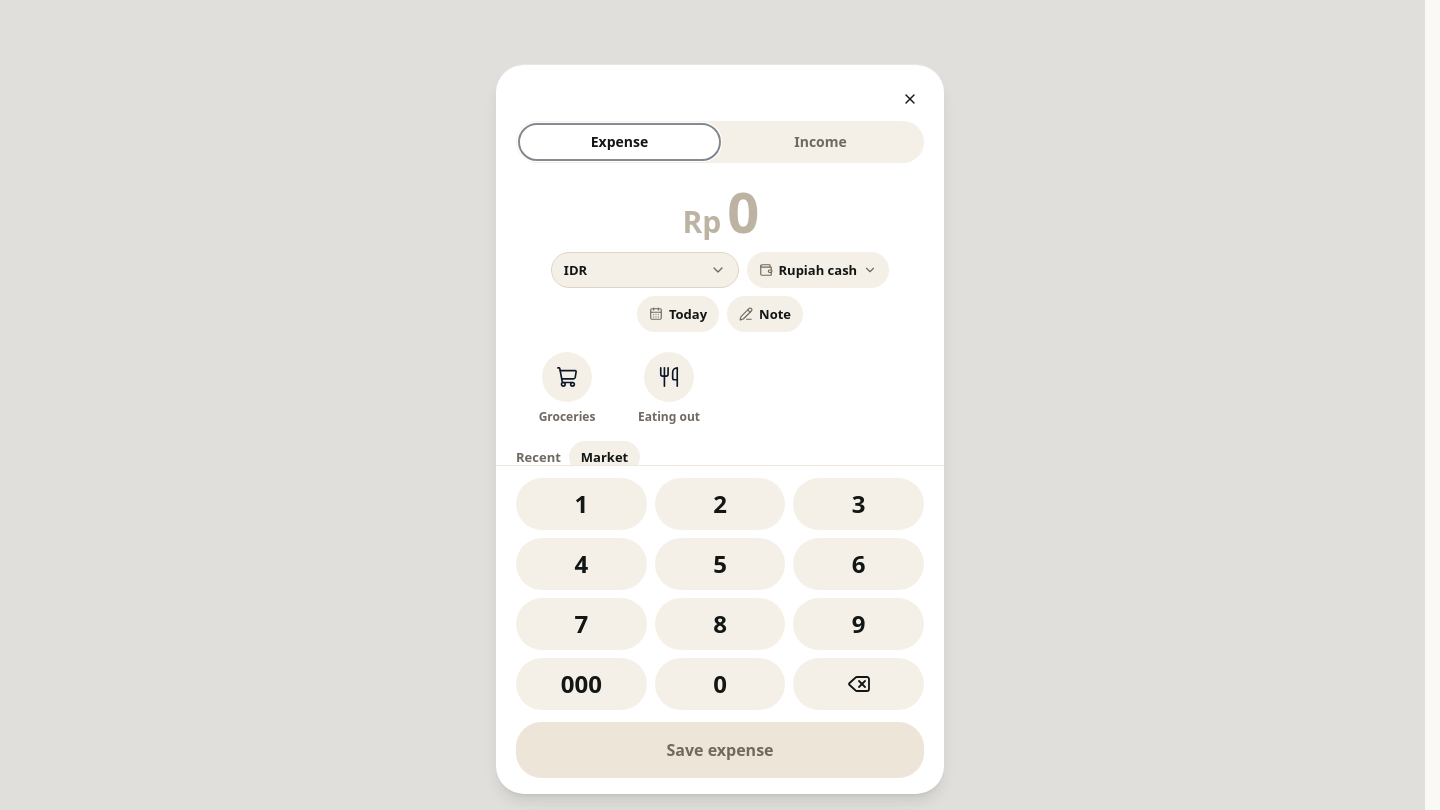
Scenario: QuickAddSheet › swaps the decimal key for 000 on rupiah wallets and hides inactive wallets
This screenshot has width=1440, height=810.
Click the button "3" at (859, 504), box [793, 478, 924, 530]
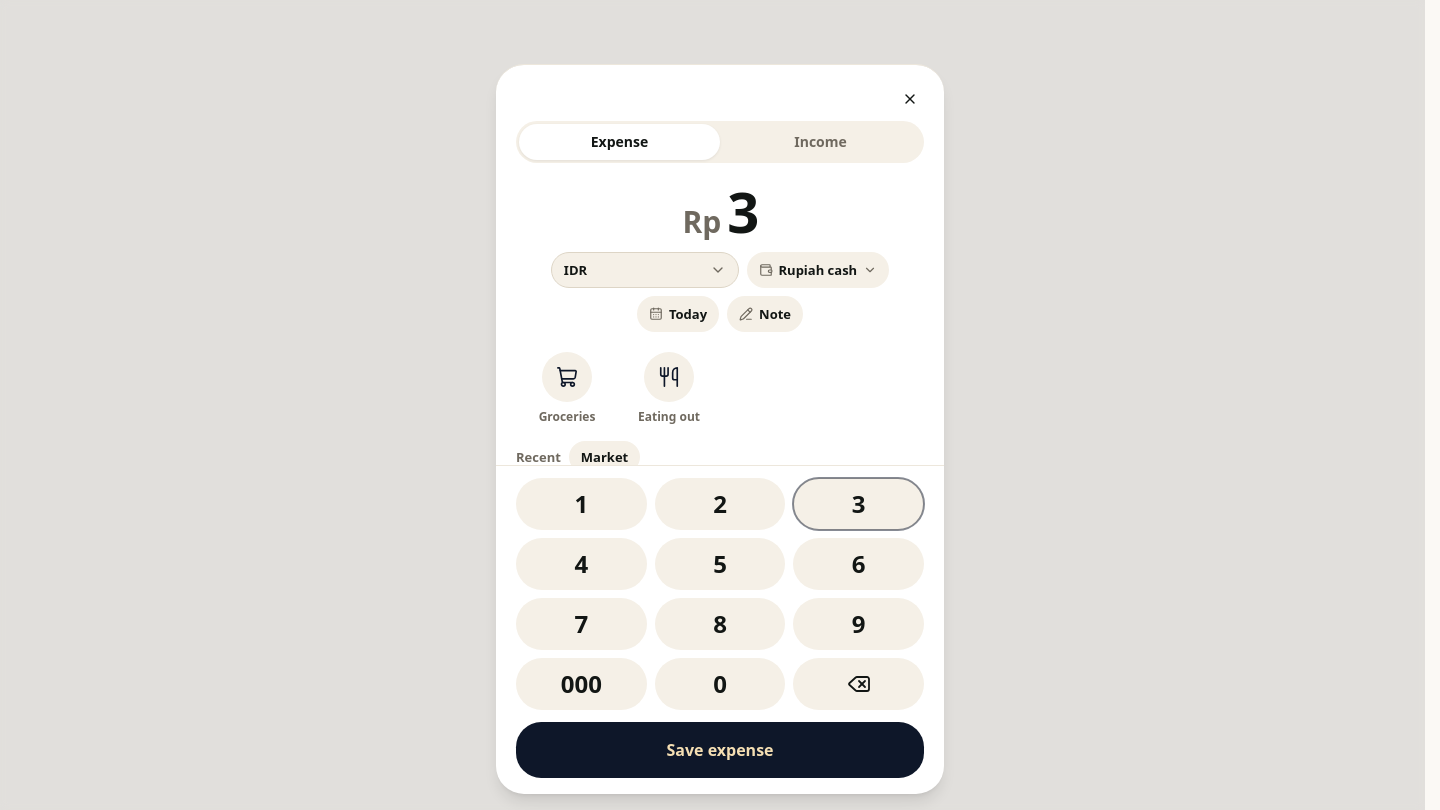
Click the button "5" at (720, 564), box [655, 538, 785, 590]
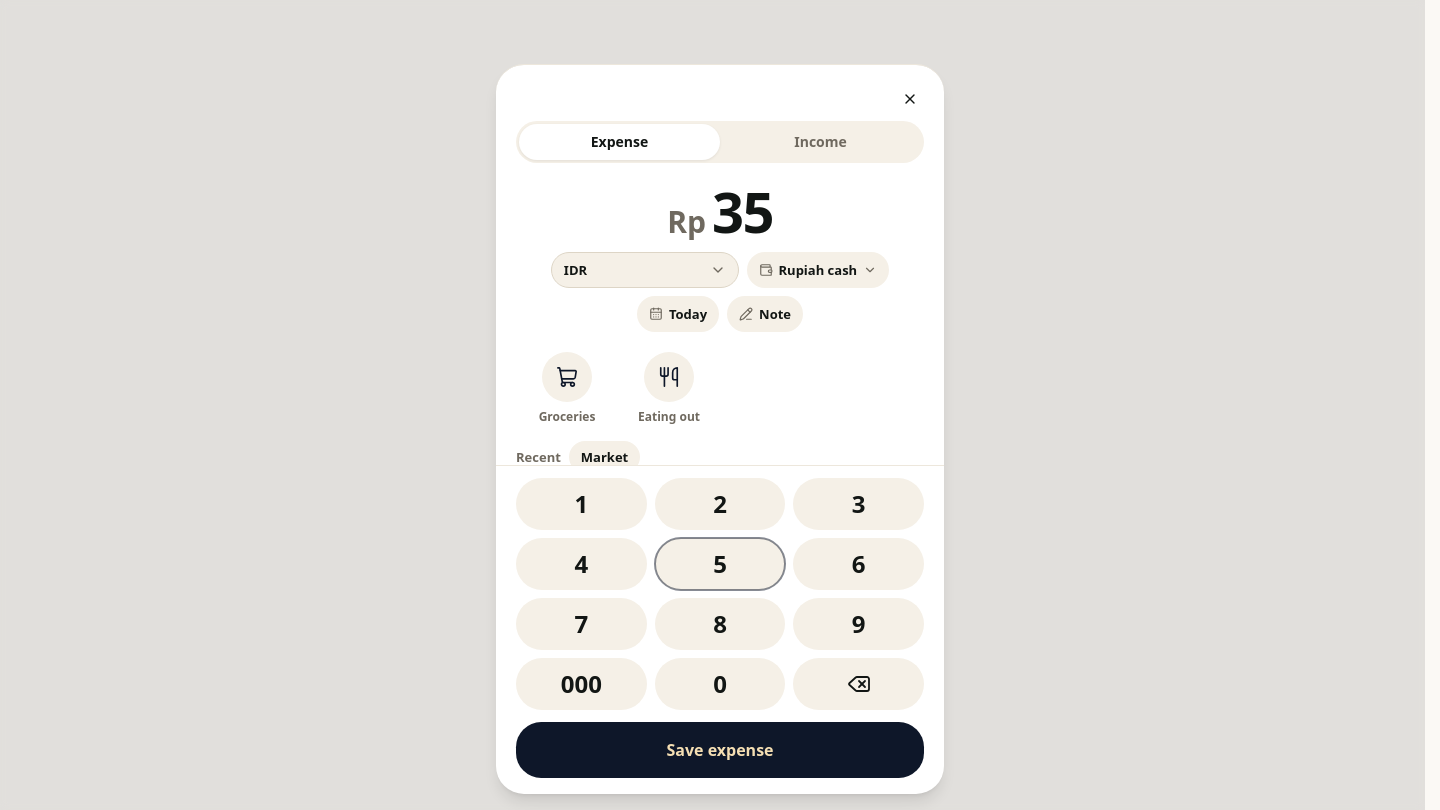
Click the button "000" at (581, 684), box [516, 658, 647, 710]
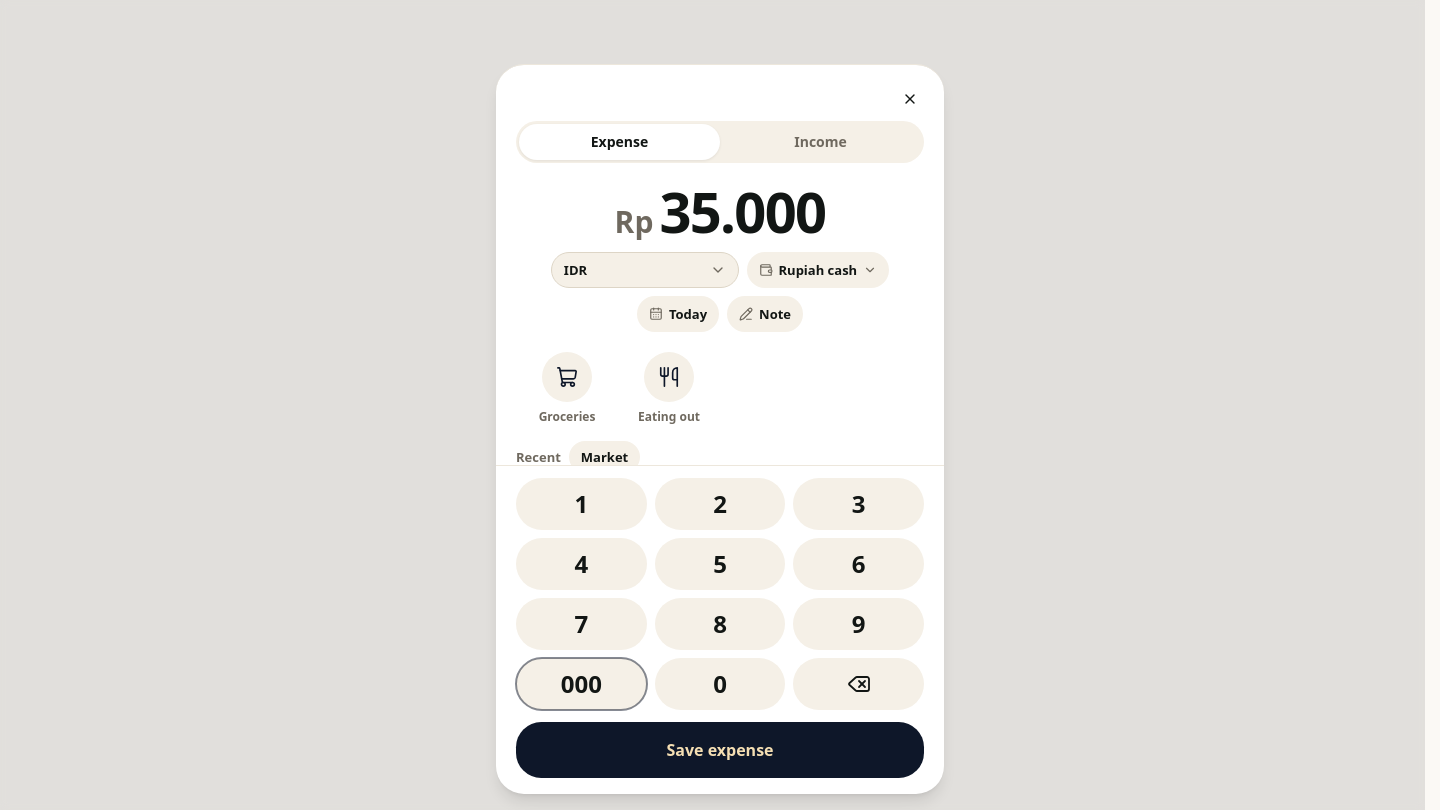
Check: the text named "Amount" reads "35.000", box [659, 173, 825, 249]
Click the dropdown named "Wallet" at (818, 270), box [746, 252, 889, 288]
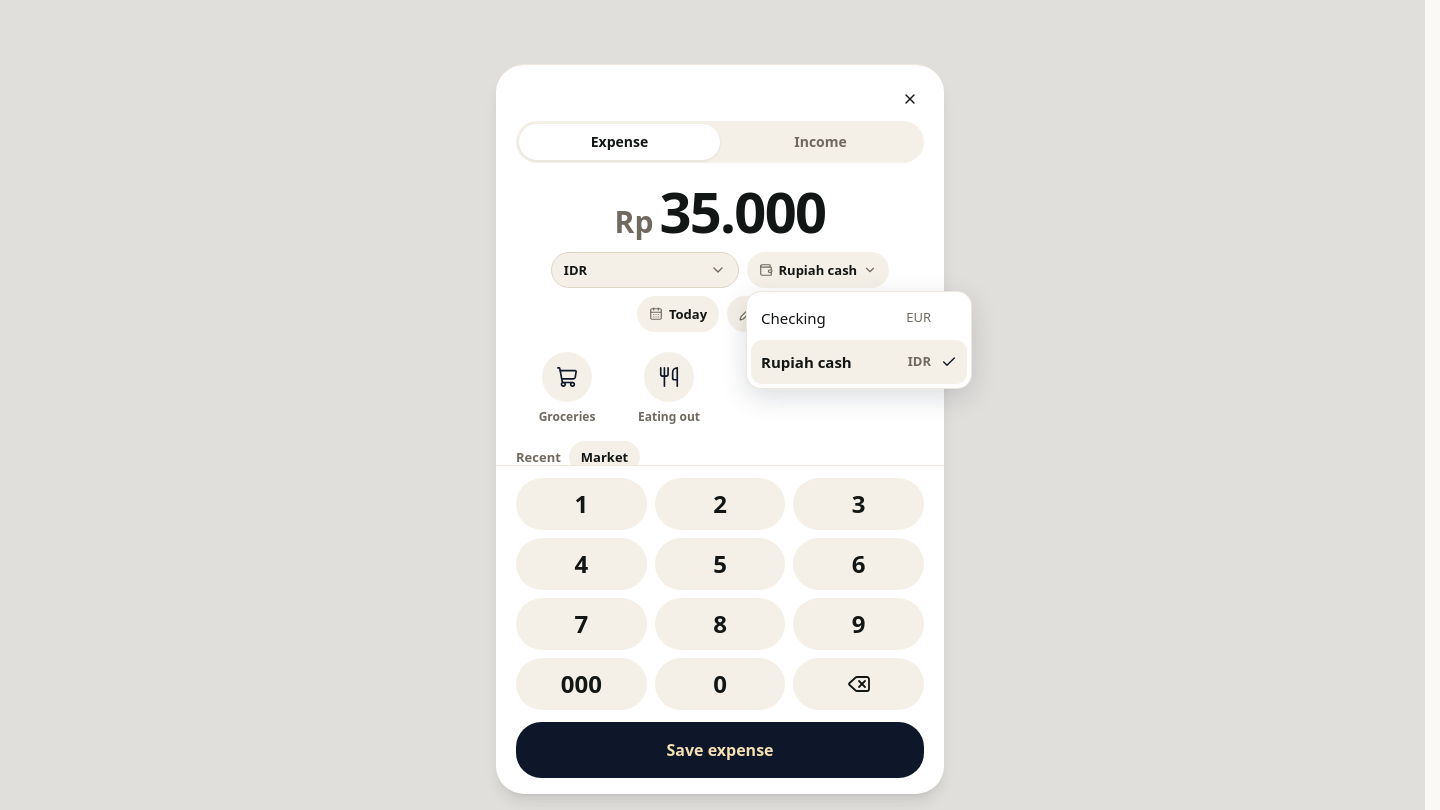
Check: the option "Checking EUR" is shown
Click the option "Checking EUR" at (793, 318), box [761, 308, 931, 328]
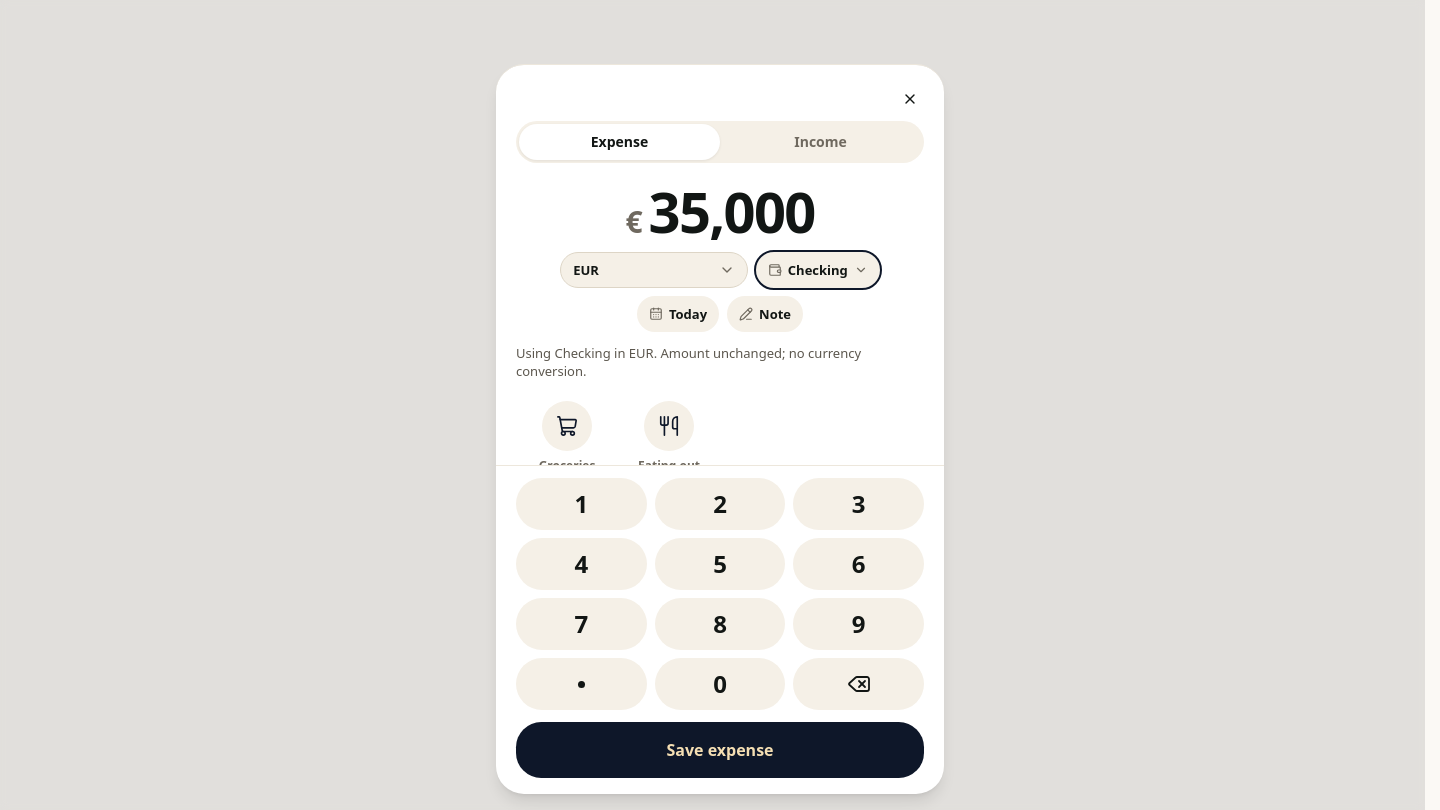
Check: the dropdown named "Wallet" reads "Checking", box [756, 252, 880, 288]
